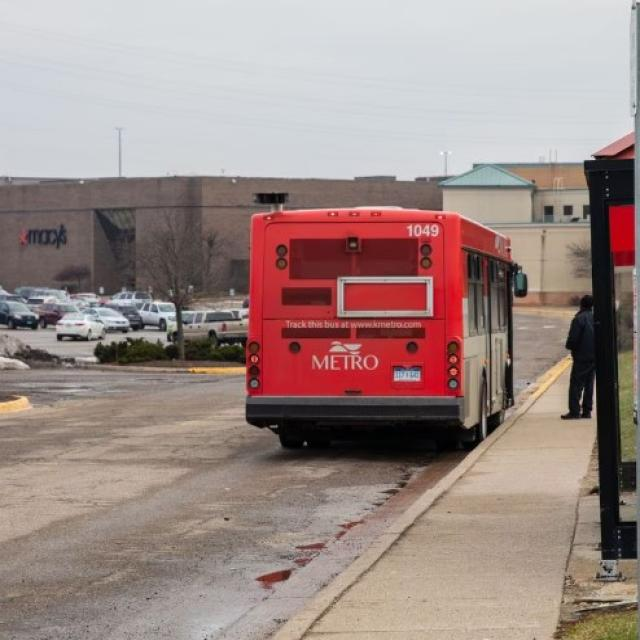bus: (245, 204, 528, 446)
car: (171, 310, 249, 346), (55, 312, 106, 341), (0, 300, 40, 330)
